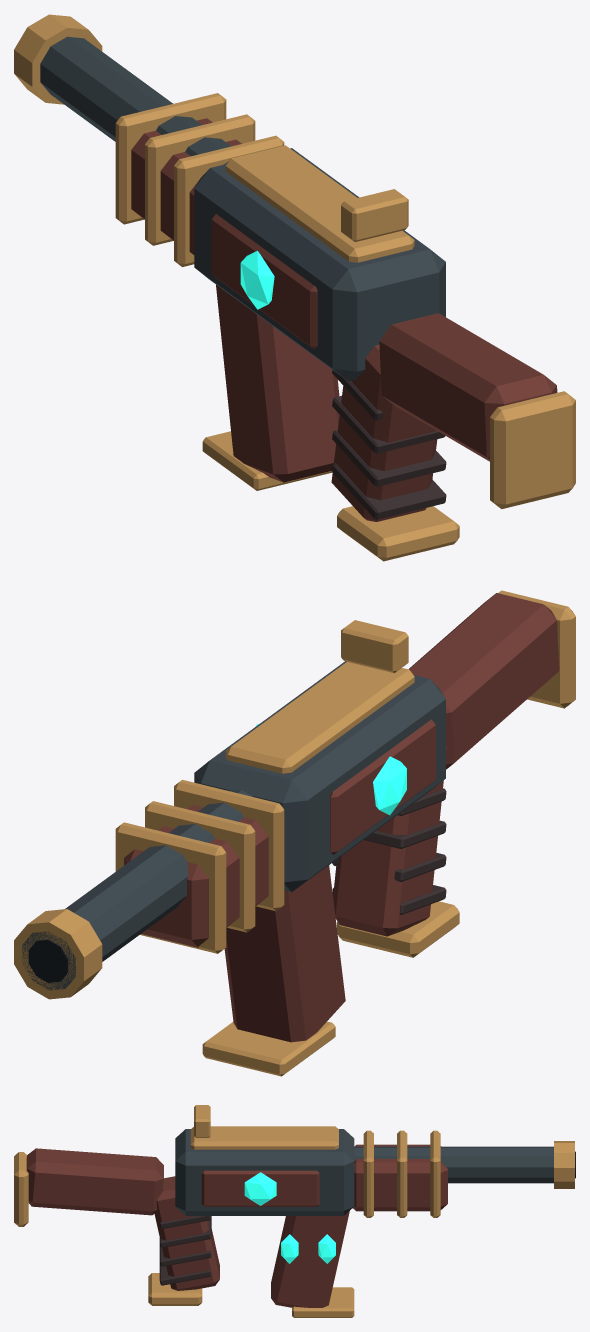
Rendered from 04_briarward.glb.
3 renders of one model, top to bottom at view 1: azimuth 30°, elevation 25°; view 2: azimuth 150°, elevation 25°; view 3: azimuth 270°, elevation 25°, orthographic. The views are drawn at different scales.
Parts seen in each view (by area): view 1: Receiver | forged iron.002, Magazine | curved rune, Stock | wood.001, Stock | brass butt.001, Receiver | raised spine.002, Barrel | iron.002, Grip | wrapped heartwood.003, Receiver | lacquer sideplate.004, Grip | pommel.003, Rib | crosswise brass.003, Rib | crosswise brass.002, Rib | crosswise brass.001 (+8 smaller); view 2: Receiver | forged iron.002, Magazine | curved rune, Stock | wood.001, Barrel | iron.002, Receiver | raised spine.002, Grip | wrapped heartwood.003, Receiver | lacquer sideplate.004, Foregrip | wood shroud, Muzzle | brass ferrule.002, Rib | crosswise brass.003, Rib | crosswise brass.001, Rib | crosswise brass.002 (+9 smaller); view 3: Receiver | forged iron.002, Stock | wood.001, Magazine | curved rune, Barrel | iron.002, Receiver | lacquer sideplate.005, Foregrip | wood shroud, Grip | wrapped heartwood.003, Receiver | raised spine.002, Magazine | brass foot, Grip | pommel.003, Stock | brass butt.001, Muzzle | brass ferrule.002 (+11 smaller).
Boxes of the visible parts, bbox=[...] form: Receiver | forged iron.002: bbox=[194, 148, 445, 381]; Magazine | curved rune: bbox=[216, 285, 339, 482]; Stock | wood.001: bbox=[379, 313, 557, 461]; Stock | brass butt.001: bbox=[490, 391, 575, 509]; Receiver | raised spine.002: bbox=[225, 145, 414, 262]; Barrel | iron.002: bbox=[40, 36, 231, 164]; Grip | wrapped heartwood.003: bbox=[331, 344, 437, 521]; Receiver | lacquer sideplate.004: bbox=[211, 214, 317, 349]; Grip | pommel.003: bbox=[337, 506, 459, 561]; Rib | crosswise brass.003: bbox=[115, 93, 226, 224]; Rib | crosswise brass.002: bbox=[145, 114, 255, 245]; Rib | crosswise brass.001: bbox=[174, 135, 284, 266]; Receiver | forged iron.002: bbox=[194, 661, 445, 892]; Magazine | curved rune: bbox=[224, 865, 345, 1042]; Stock | wood.001: bbox=[409, 593, 559, 769]; Barrel | iron.002: bbox=[22, 790, 253, 990]; Receiver | raised spine.002: bbox=[225, 661, 414, 773]; Grip | wrapped heartwood.003: bbox=[333, 747, 446, 936]; Receiver | lacquer sideplate.004: bbox=[330, 719, 435, 854]; Foregrip | wood shroud: bbox=[124, 805, 268, 947]; Muzzle | brass ferrule.002: bbox=[14, 909, 102, 999]; Rib | crosswise brass.003: bbox=[115, 822, 226, 953]; Rib | crosswise brass.001: bbox=[174, 779, 284, 911]; Rib | crosswise brass.002: bbox=[145, 801, 255, 932]; Receiver | forged iron.002: bbox=[175, 1129, 354, 1215]; Stock | wood.001: bbox=[26, 1148, 163, 1215]; Magazine | curved rune: bbox=[271, 1211, 349, 1307]; Barrel | iron.002: bbox=[354, 1146, 553, 1183]; Receiver | lacquer sideplate.005: bbox=[201, 1170, 319, 1206]; Foregrip | wood shroud: bbox=[353, 1144, 447, 1211]; Grip | wrapped heartwood.003: bbox=[154, 1176, 219, 1290]; Receiver | raised spine.002: bbox=[190, 1126, 338, 1149]; Magazine | brass foot: bbox=[292, 1287, 354, 1317]; Grip | pommel.003: bbox=[148, 1273, 202, 1305]; Stock | brass butt.001: bbox=[14, 1152, 28, 1226]; Muzzle | brass ferrule.002: bbox=[554, 1141, 574, 1188].
Bounding box in the file's own units: 0.2424 × 0.5175 × 1.35.
